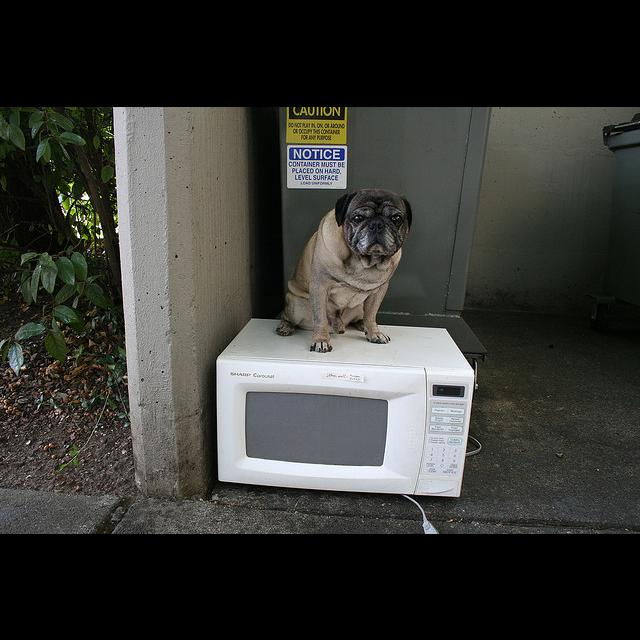Microwave: (215, 313, 477, 498)
